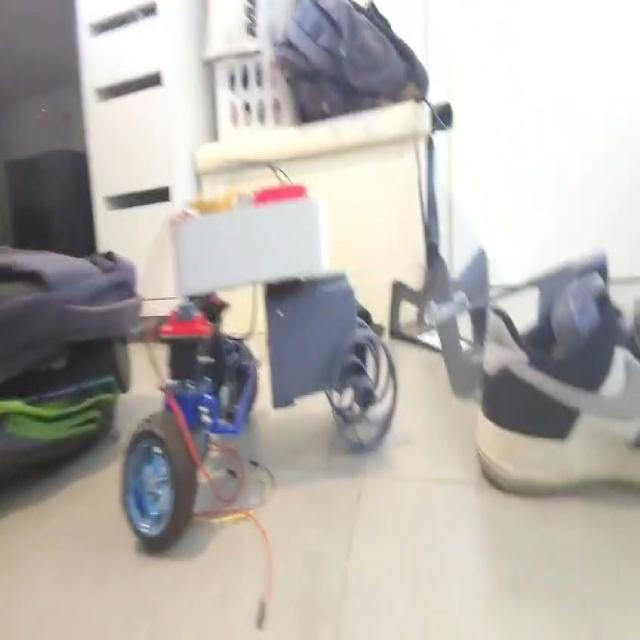Robot: (121, 180, 396, 552)
